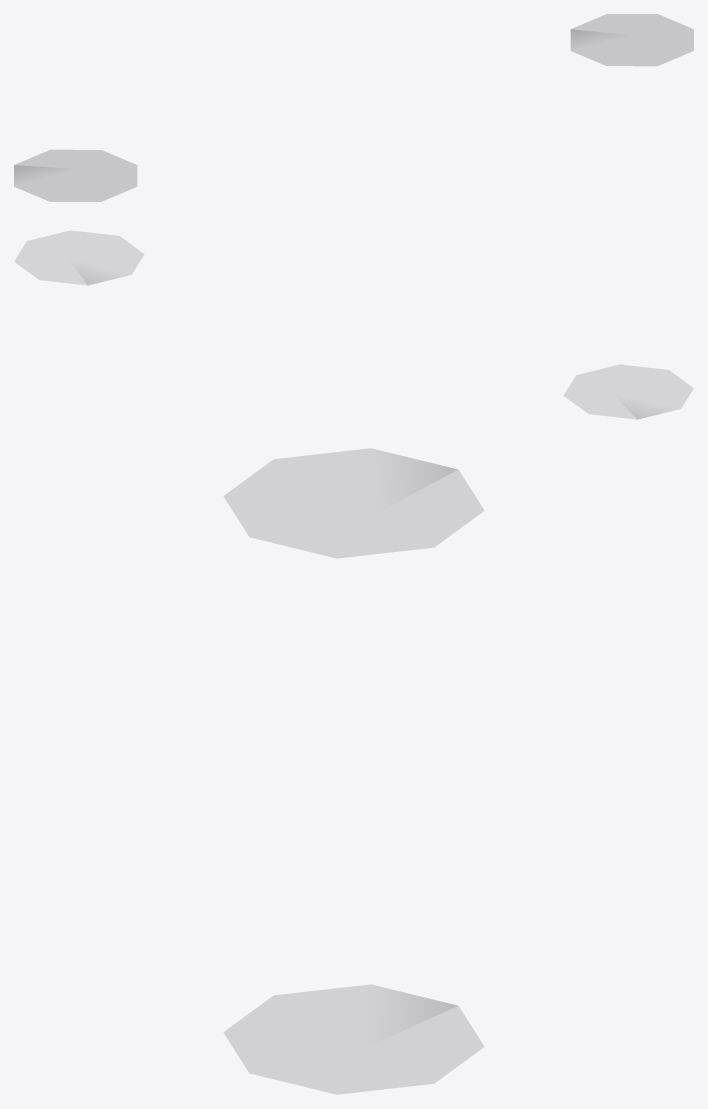
3 renders of one model, top to bottom at view 1: azimuth 30°, elevation 25°; view 2: azimuth 150°, elevation 25°; view 3: azimuth 270°, elevation 25°, orthographic. The views are drawn at different scales.
Visible parts, largest first — view 1: Joint_0_Object_0, Joint_0_Object_1; view 2: Joint_0_Object_1, Joint_0_Object_0; view 3: Joint_0_Object_1, Joint_0_Object_0.
Part boxes in pixels (bbox=[...]): Joint_0_Object_0: bbox=[571, 14, 693, 65]; Joint_0_Object_1: bbox=[14, 150, 136, 201]; Joint_0_Object_1: bbox=[564, 364, 693, 419]; Joint_0_Object_0: bbox=[14, 230, 143, 285]; Joint_0_Object_1: bbox=[224, 448, 483, 558]; Joint_0_Object_0: bbox=[224, 984, 483, 1094].
Bounding box in the file's own units: 1582 × 0.3682 × 270.
Materials: 1 (1 with a texture image).
